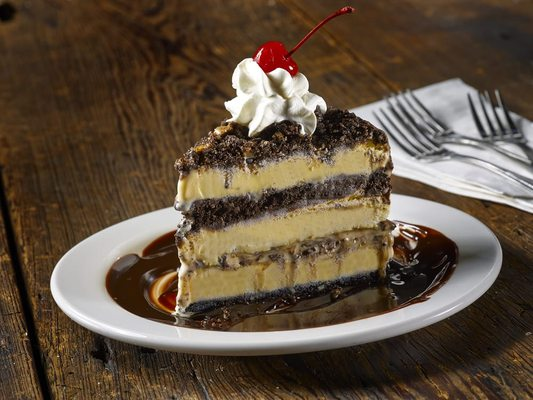burger: (359, 88, 533, 191)
